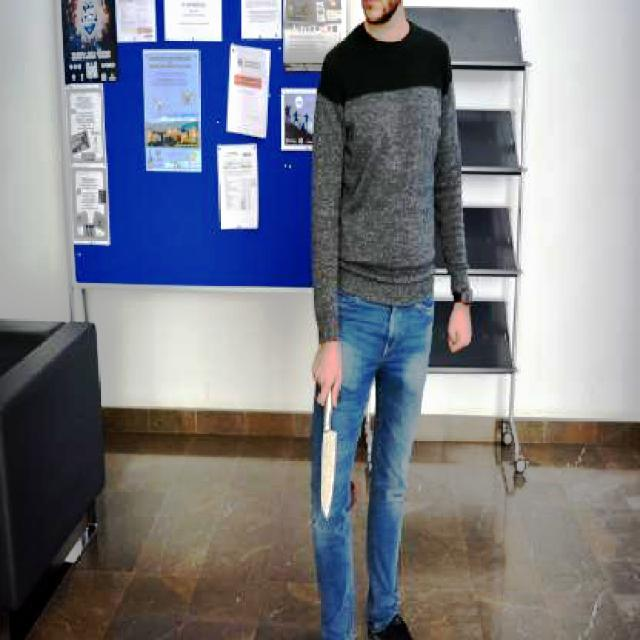Knife: (308, 385, 350, 524)
